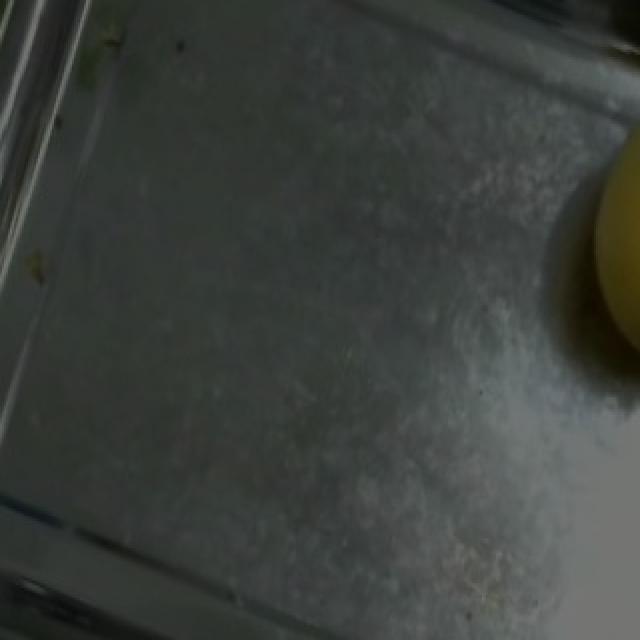fruit: (560, 87, 640, 402)
